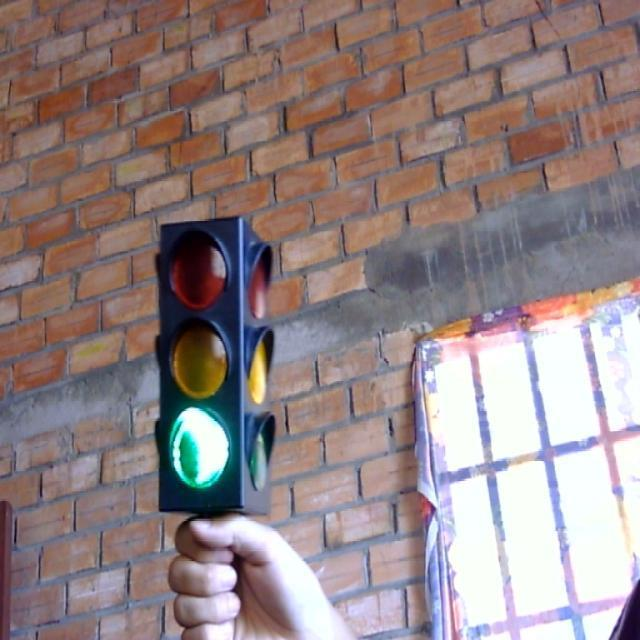green_light: (154, 212, 282, 517)
